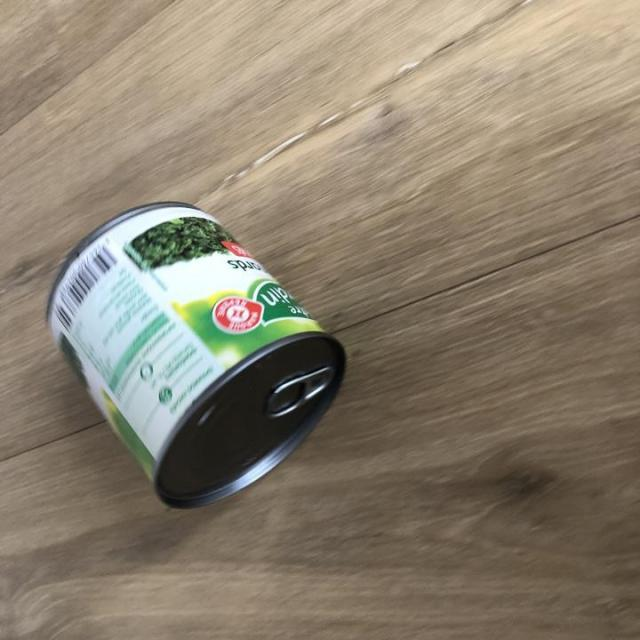recyclable: (41, 195, 350, 510)
